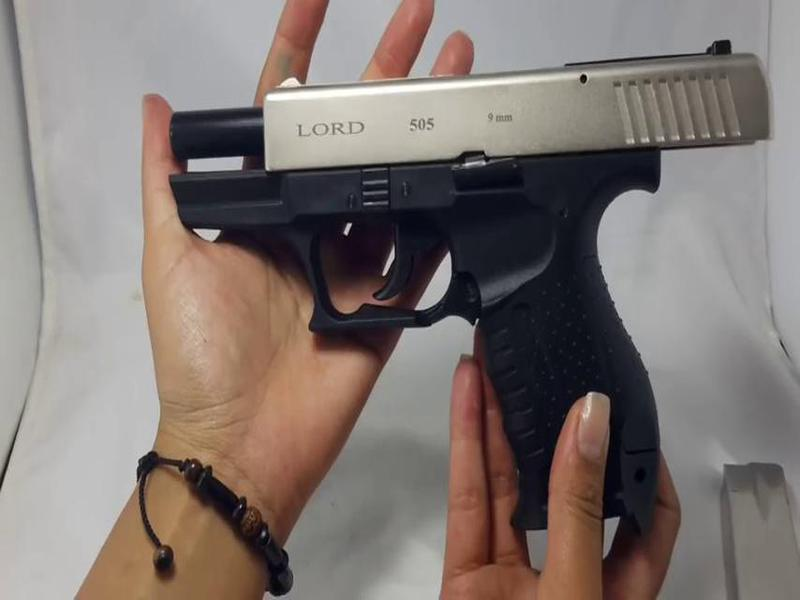Pistola: (107, 34, 800, 529)
